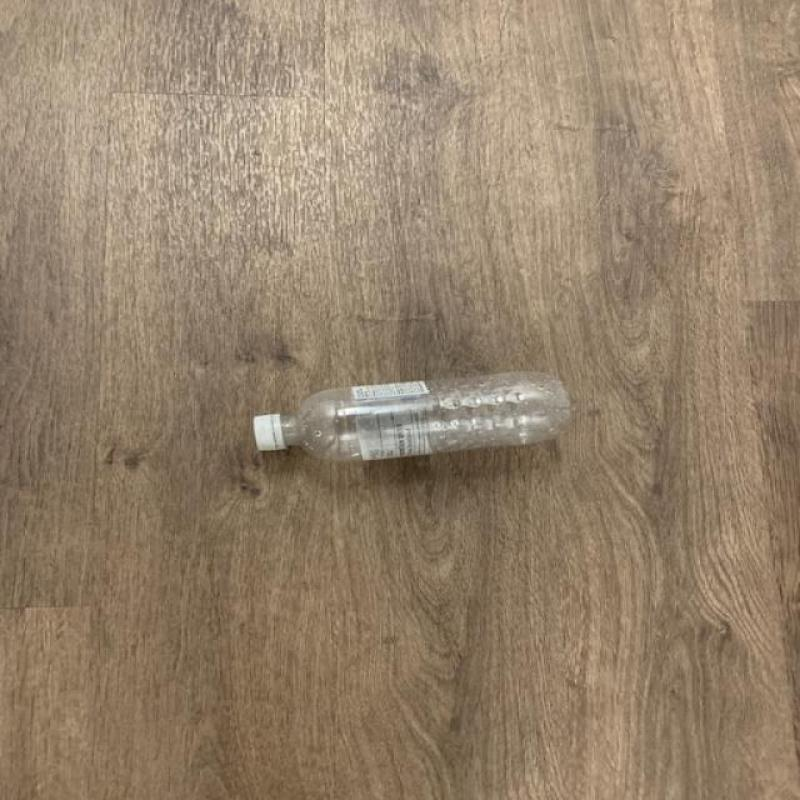botella: (254, 372, 571, 462)
